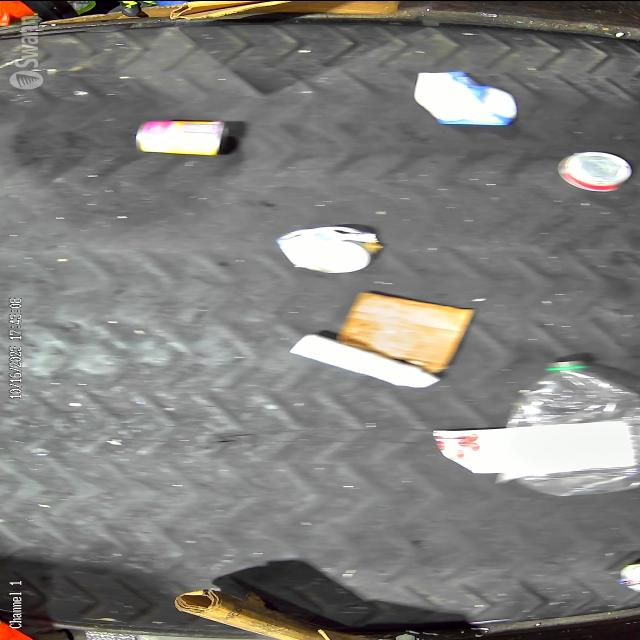can: (130, 116, 242, 156), (554, 145, 640, 195)
plastic_bottle: (499, 358, 640, 498)
